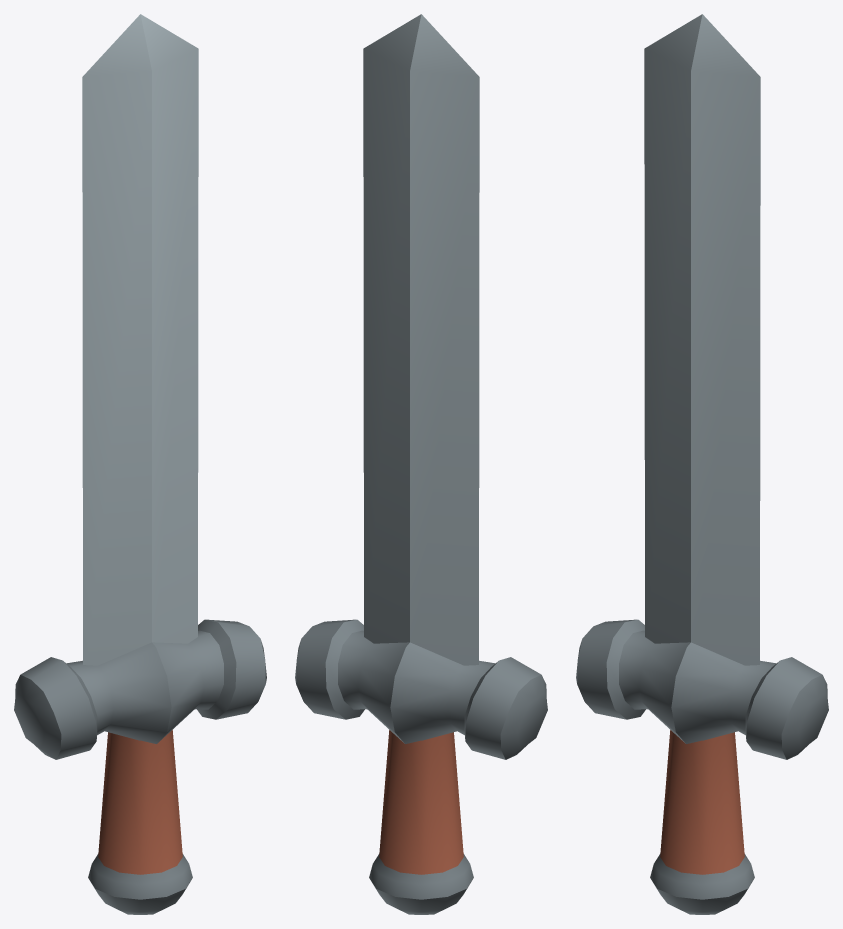
Rendered from sword_uncommon.glb.
3 renders of one model, left to right at view 1: azimuth 30°, elevation 25°; view 2: azimuth 150°, elevation 25°; view 3: azimuth 330°, elevation 25°, orthographic.
Visible parts, largest first — view 1: sword_uncommon; view 2: sword_uncommon; view 3: sword_uncommon.
Boxes of the visible parts, x1,y1,x2,y2 form: sword_uncommon: [14, 14, 266, 914]; sword_uncommon: [295, 14, 547, 914]; sword_uncommon: [576, 14, 828, 914].
Size of the model in its own units: 0.0718 by 0.2647 by 0.0335.
